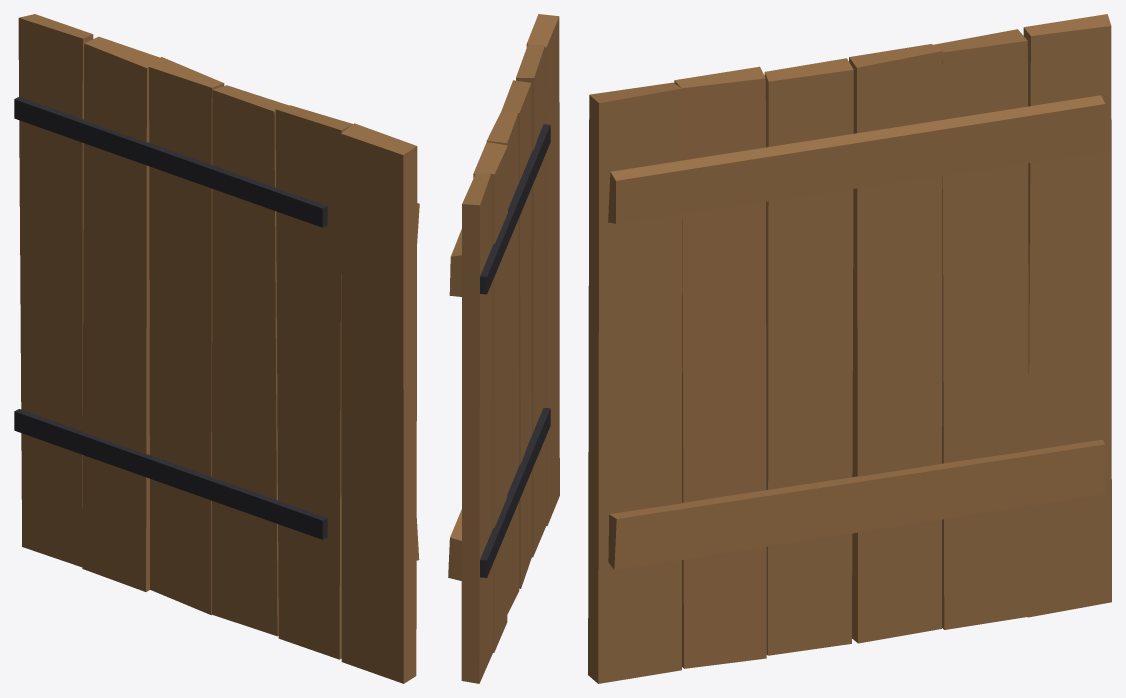
File: DoorAjar.fbx
3 renders of one model, left to right at view 1: azimuth 30°, elevation 25°; view 2: azimuth 150°, elevation 25°; view 3: azimuth 270°, elevation 25°, orthographic. The views are drawn at different scales.
Parts seen in each view (by area): view 1: DoorAjar; view 2: DoorAjar; view 3: DoorAjar.
Boxes of the visible parts, x1,y1,x2,y2 form: DoorAjar: [14, 14, 419, 683]; DoorAjar: [448, 14, 559, 683]; DoorAjar: [588, 14, 1111, 683].
Size of the model in its own units: 0.7997 by 2.21 by 1.8.
